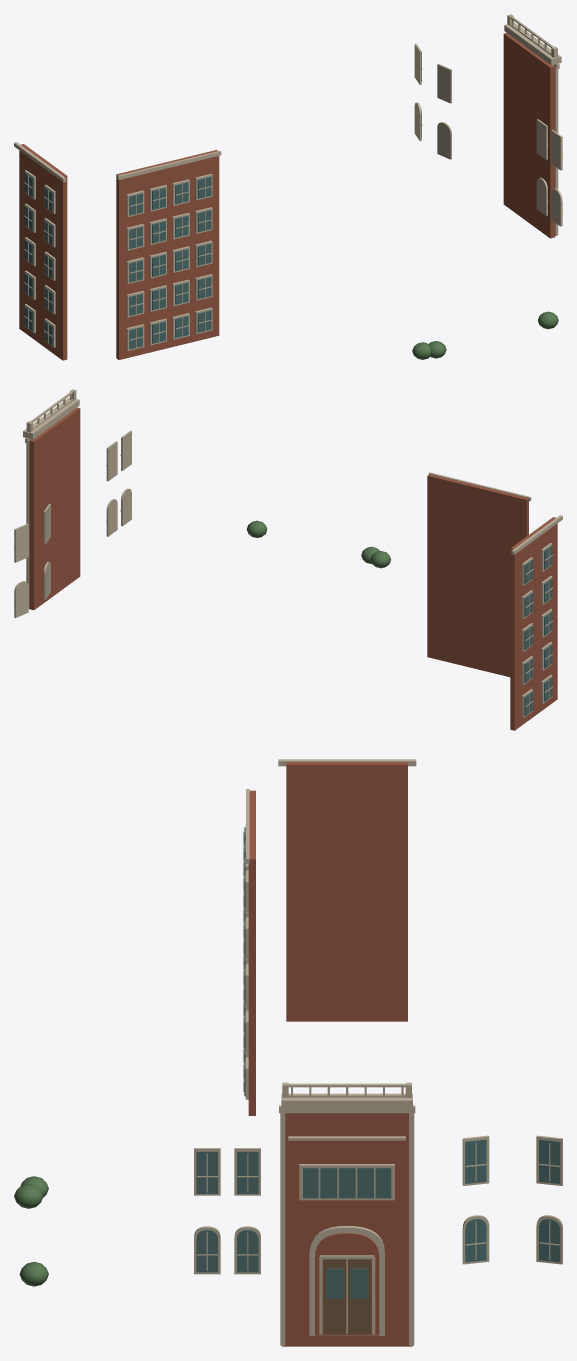
File: fenton-east-source-guarded-overlay-2026-11-04.glb
3 renders of one model, top to bottom at view 1: azimuth 30°, elevation 25°; view 2: azimuth 150°, elevation 25°; view 3: azimuth 270°, elevation 25°, orthographic. The views are drawn at different scales.
Visible parts, largest first — view 1: fenton-part-0, fenton-part-1; view 2: fenton-part-0, fenton-part-1; view 3: fenton-part-0, fenton-part-1.
Boxes of the visible parts, bbox=[...] form: fenton-part-0: bbox=[14, 14, 562, 360]; fenton-part-1: bbox=[412, 311, 558, 359]; fenton-part-0: bbox=[14, 389, 562, 730]; fenton-part-1: bbox=[246, 520, 390, 568]; fenton-part-0: bbox=[194, 759, 562, 1346]; fenton-part-1: bbox=[14, 1176, 48, 1286].
Size of the model in its own units: 44.01 by 16.16 by 29.82.
